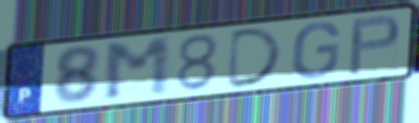8: (52, 43, 102, 108), (173, 32, 221, 93)
D: (224, 25, 286, 91)
G: (289, 20, 343, 81)
M: (102, 34, 173, 104)
P: (345, 12, 403, 78)
